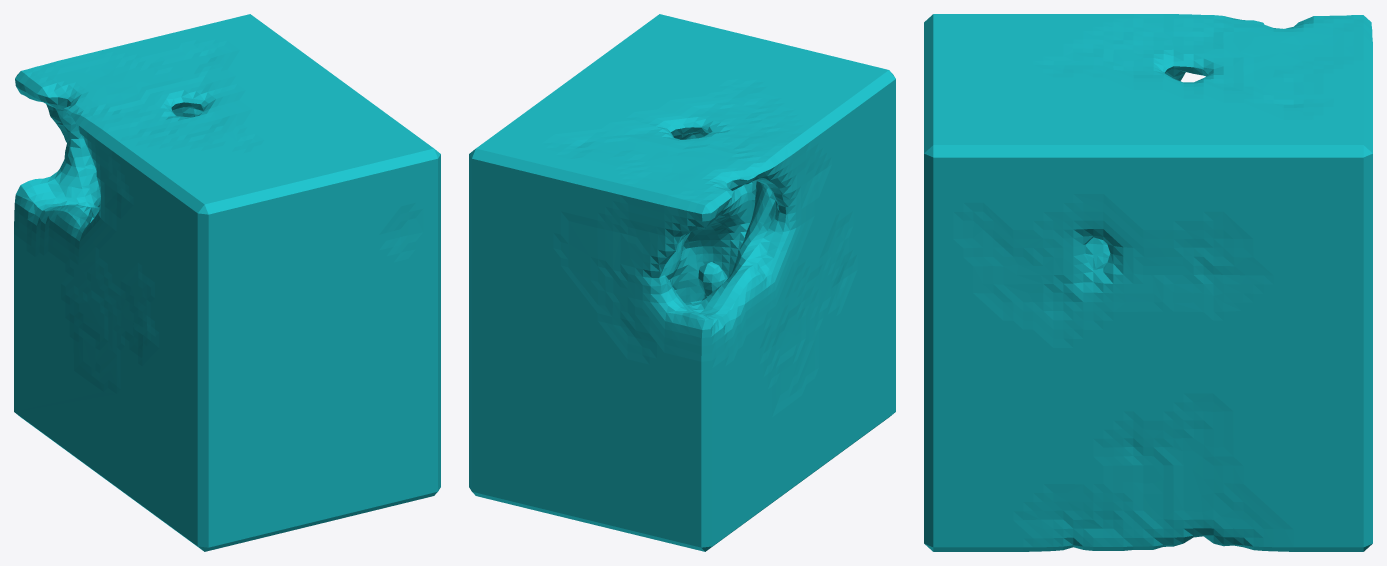
3 renders of one model, left to right at view 1: azimuth 30°, elevation 25°; view 2: azimuth 150°, elevation 25°; view 3: azimuth 270°, elevation 25°, orthographic. The views are drawn at different scales.
Visible parts, largest first — view 1: Liquid_Domain; view 2: Liquid_Domain; view 3: Liquid_Domain.
Part boxes in pixels (x1,y1,x2,y2): Liquid_Domain: [14, 14, 440, 551]; Liquid_Domain: [469, 14, 895, 551]; Liquid_Domain: [924, 14, 1372, 551].
Size of the model in its own units: 79.09 by 108 by 108.
